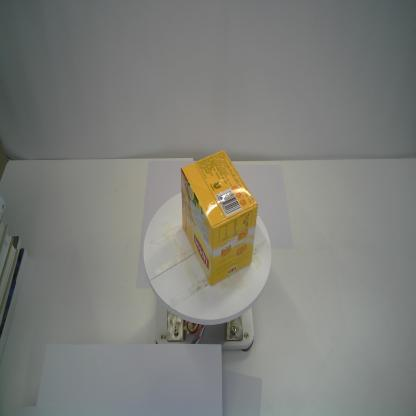Instant Drink: (180, 147, 260, 288)
